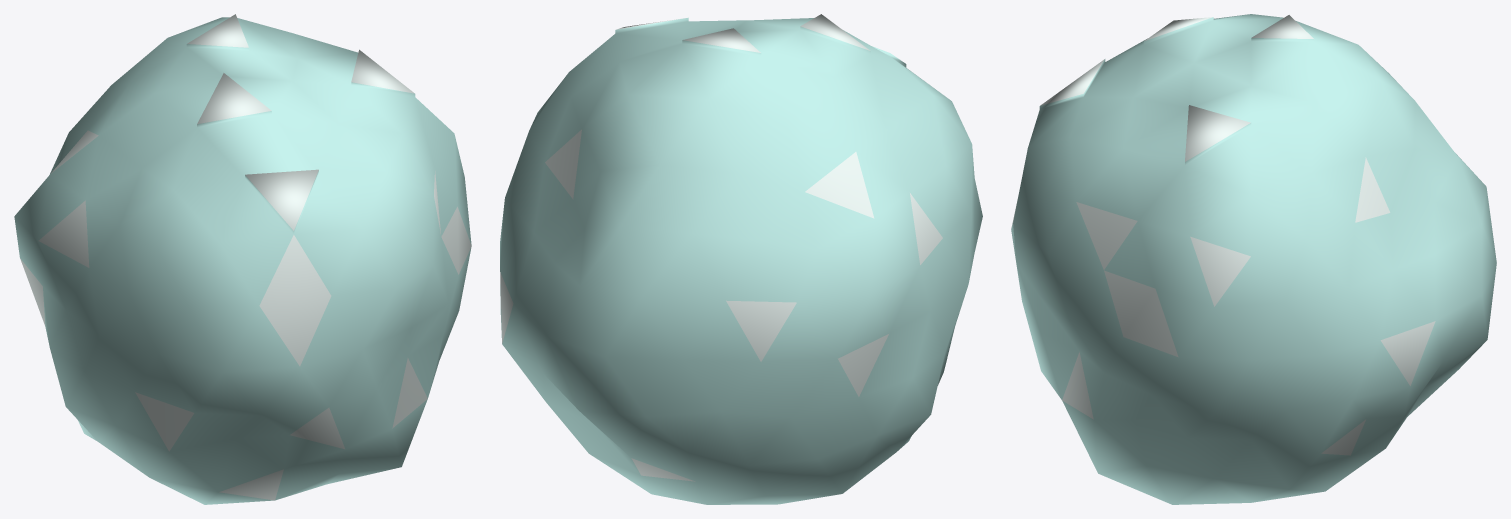
Rendered from Snowball.glb.
3 views of the same model, side by side, from view 1: azimuth 30°, elevation 25°; view 2: azimuth 150°, elevation 25°; view 3: azimuth 270°, elevation 25° (orthographic). The views are drawn at different scales.
Parts seen in each view (by area): view 1: Icosphere; view 2: Icosphere; view 3: Icosphere.
Part boxes in pixels (left/top/right/bottom): Icosphere: left=14, top=14, right=471, bottom=504; Icosphere: left=500, top=14, right=982, bottom=504; Icosphere: left=1011, top=14, right=1496, bottom=504.
Bounding box in the file's own units: 2.67 × 2.76 × 2.79.
